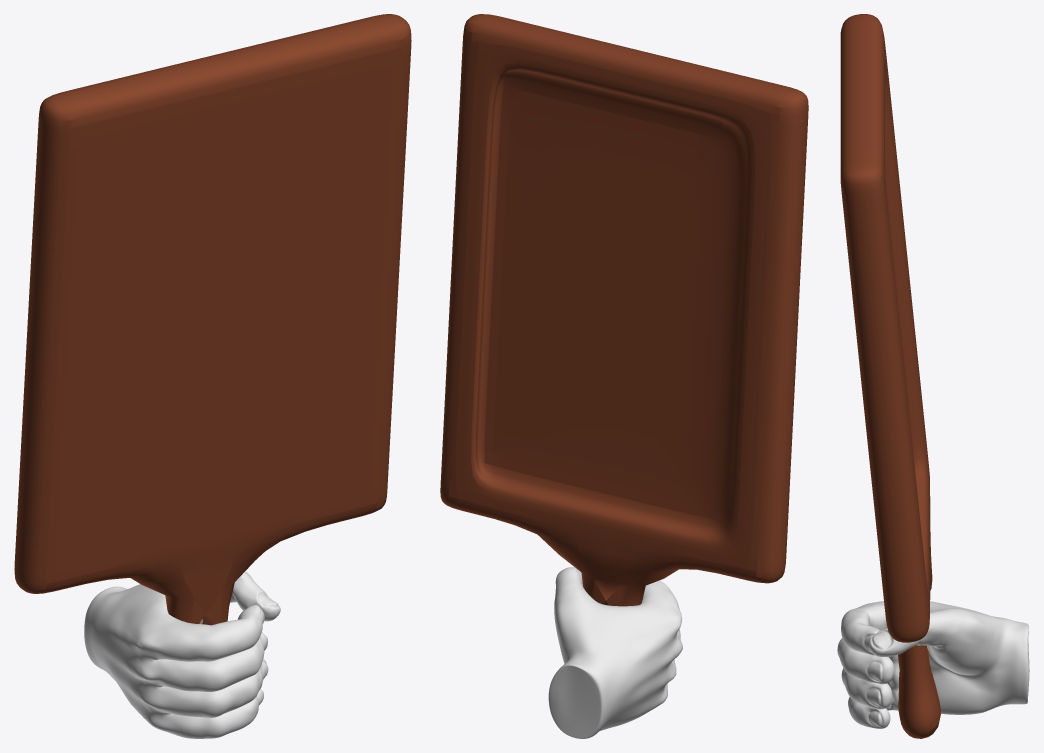
Rendered from правая с доскй большой.fbx.
3 views of the same model, side by side, from view 1: azimuth 30°, elevation 25°; view 2: azimuth 150°, elevation 25°; view 3: azimuth 270°, elevation 25° (orthographic). The views are drawn at different scales.
Parts seen in each view (by area): view 1: правая рука.001; view 2: правая рука.001; view 3: правая рука.001.
Part boxes in pixels (x1,y1,x2,y2): правая рука.001: [14, 14, 411, 738]; правая рука.001: [440, 14, 808, 738]; правая рука.001: [837, 14, 1029, 738].
Bounding box in the file's own units: 22.86 × 41.25 × 11.2.
